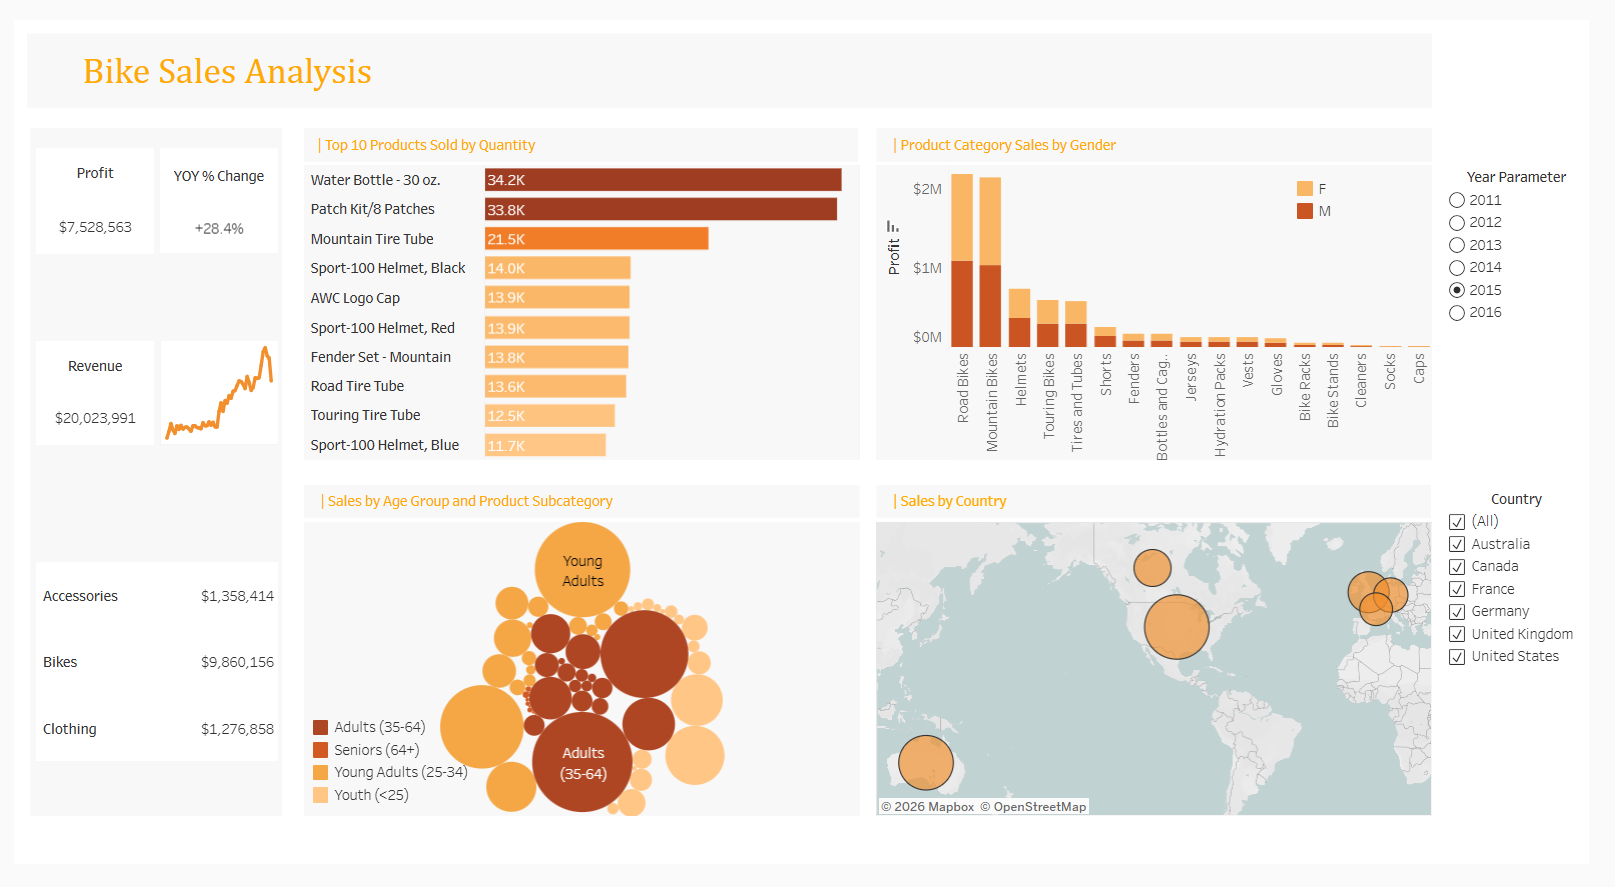

The page's visual inventory and layout, read from the dashboard file:
{"tool":"tableau","page":{"name":"Sales Dashboard","canvas":[1400,750],"ordinal":0},"visuals":[{"type":"title","box":[8,8,1257,74]},{"type":"blank","box":[8,82,1257,660]},{"type":"worksheet","title":"Top 10 Products","mark":"Bar","rows":["Product"],"box":[257.7,96.4,494.3,294.9]},{"type":"worksheet","title":"Sub-Category ","mark":"Automatic","rows":["Profit"],"cols":["Sub_Category"],"box":[767.2,96.4,494.3,294.9]},{"type":"worksheet","title":"Profit Card","mark":"Automatic","cols":["Calculation_1741204227482750977"],"box":[20,114,105,94]},{"type":"worksheet","title":"YOY % change","mark":"Automatic","cols":["Calculation_1741204227486285831"],"box":[130,114,105,93]},{"type":"parameter","param":"[Parameters].[Parameter 1]","box":[1272,131,128,193]},{"type":"legend","title":"Sub-Category ","param":"[federated.1og45891pi2o6715y5zxj0riisuu].[none:Customer_Gender:nk]","box":[1138.1,140.5,118.3,59.9]},{"type":"worksheet","title":"Revenue Card","mark":"Automatic","cols":["Calculation_1741204227487277064"],"box":[20,285,105,93]},{"type":"worksheet","title":"Revenue Line Chart","mark":"Automatic","rows":["Revenue"],"cols":["Date"],"box":[130,285,105,93]},{"type":"worksheet","title":"Age Group bubble chart ","mark":"Circle","box":[257.7,412.9,494.3,294.9]},{"type":"worksheet","title":"Map","mark":"Automatic","box":[767.2,412.9,494.3,294.9]},{"type":"filter","title":"Age Group bubble chart ","param":"[federated.1og45891pi2o6715y5zxj0riisuu].[none:Country:nk]","box":[1272,417,128,193]},{"type":"worksheet","title":"Cost Cards","mark":"Automatic","rows":["Product_Category"],"box":[20,482,215,177]},{"type":"legend","title":"Age Group bubble chart ","param":"[federated.1og45891pi2o6715y5zxj0riisuu].[none:Age_Group:nk]","box":[262.8,618.9,149.5,82.4]}]}

Visuals, with their boxes in screenshot pixels (x1, y1, x2, y2), scaled from the page's 1400x750 canvas onto the 1615x887 screenshot:
title: region(9, 9, 1459, 97)
blank: region(9, 97, 1459, 878)
"Top 10 Products" worksheet (Bar marks): region(297, 114, 867, 463)
"Sub-Category " worksheet: region(885, 114, 1455, 463)
"Profit Card" worksheet: region(23, 135, 144, 246)
"YOY % change" worksheet: region(150, 135, 271, 245)
parameter: region(1467, 155, 1614, 383)
"Sub-Category " legend: region(1313, 166, 1449, 237)
"Revenue Card" worksheet: region(23, 337, 144, 447)
"Revenue Line Chart" worksheet: region(150, 337, 271, 447)
"Age Group bubble chart " worksheet (Circle marks): region(297, 488, 867, 837)
"Map" worksheet: region(885, 488, 1455, 837)
"Age Group bubble chart " filter: region(1467, 493, 1614, 721)
"Cost Cards" worksheet: region(23, 570, 271, 779)
"Age Group bubble chart " legend: region(303, 732, 476, 829)
